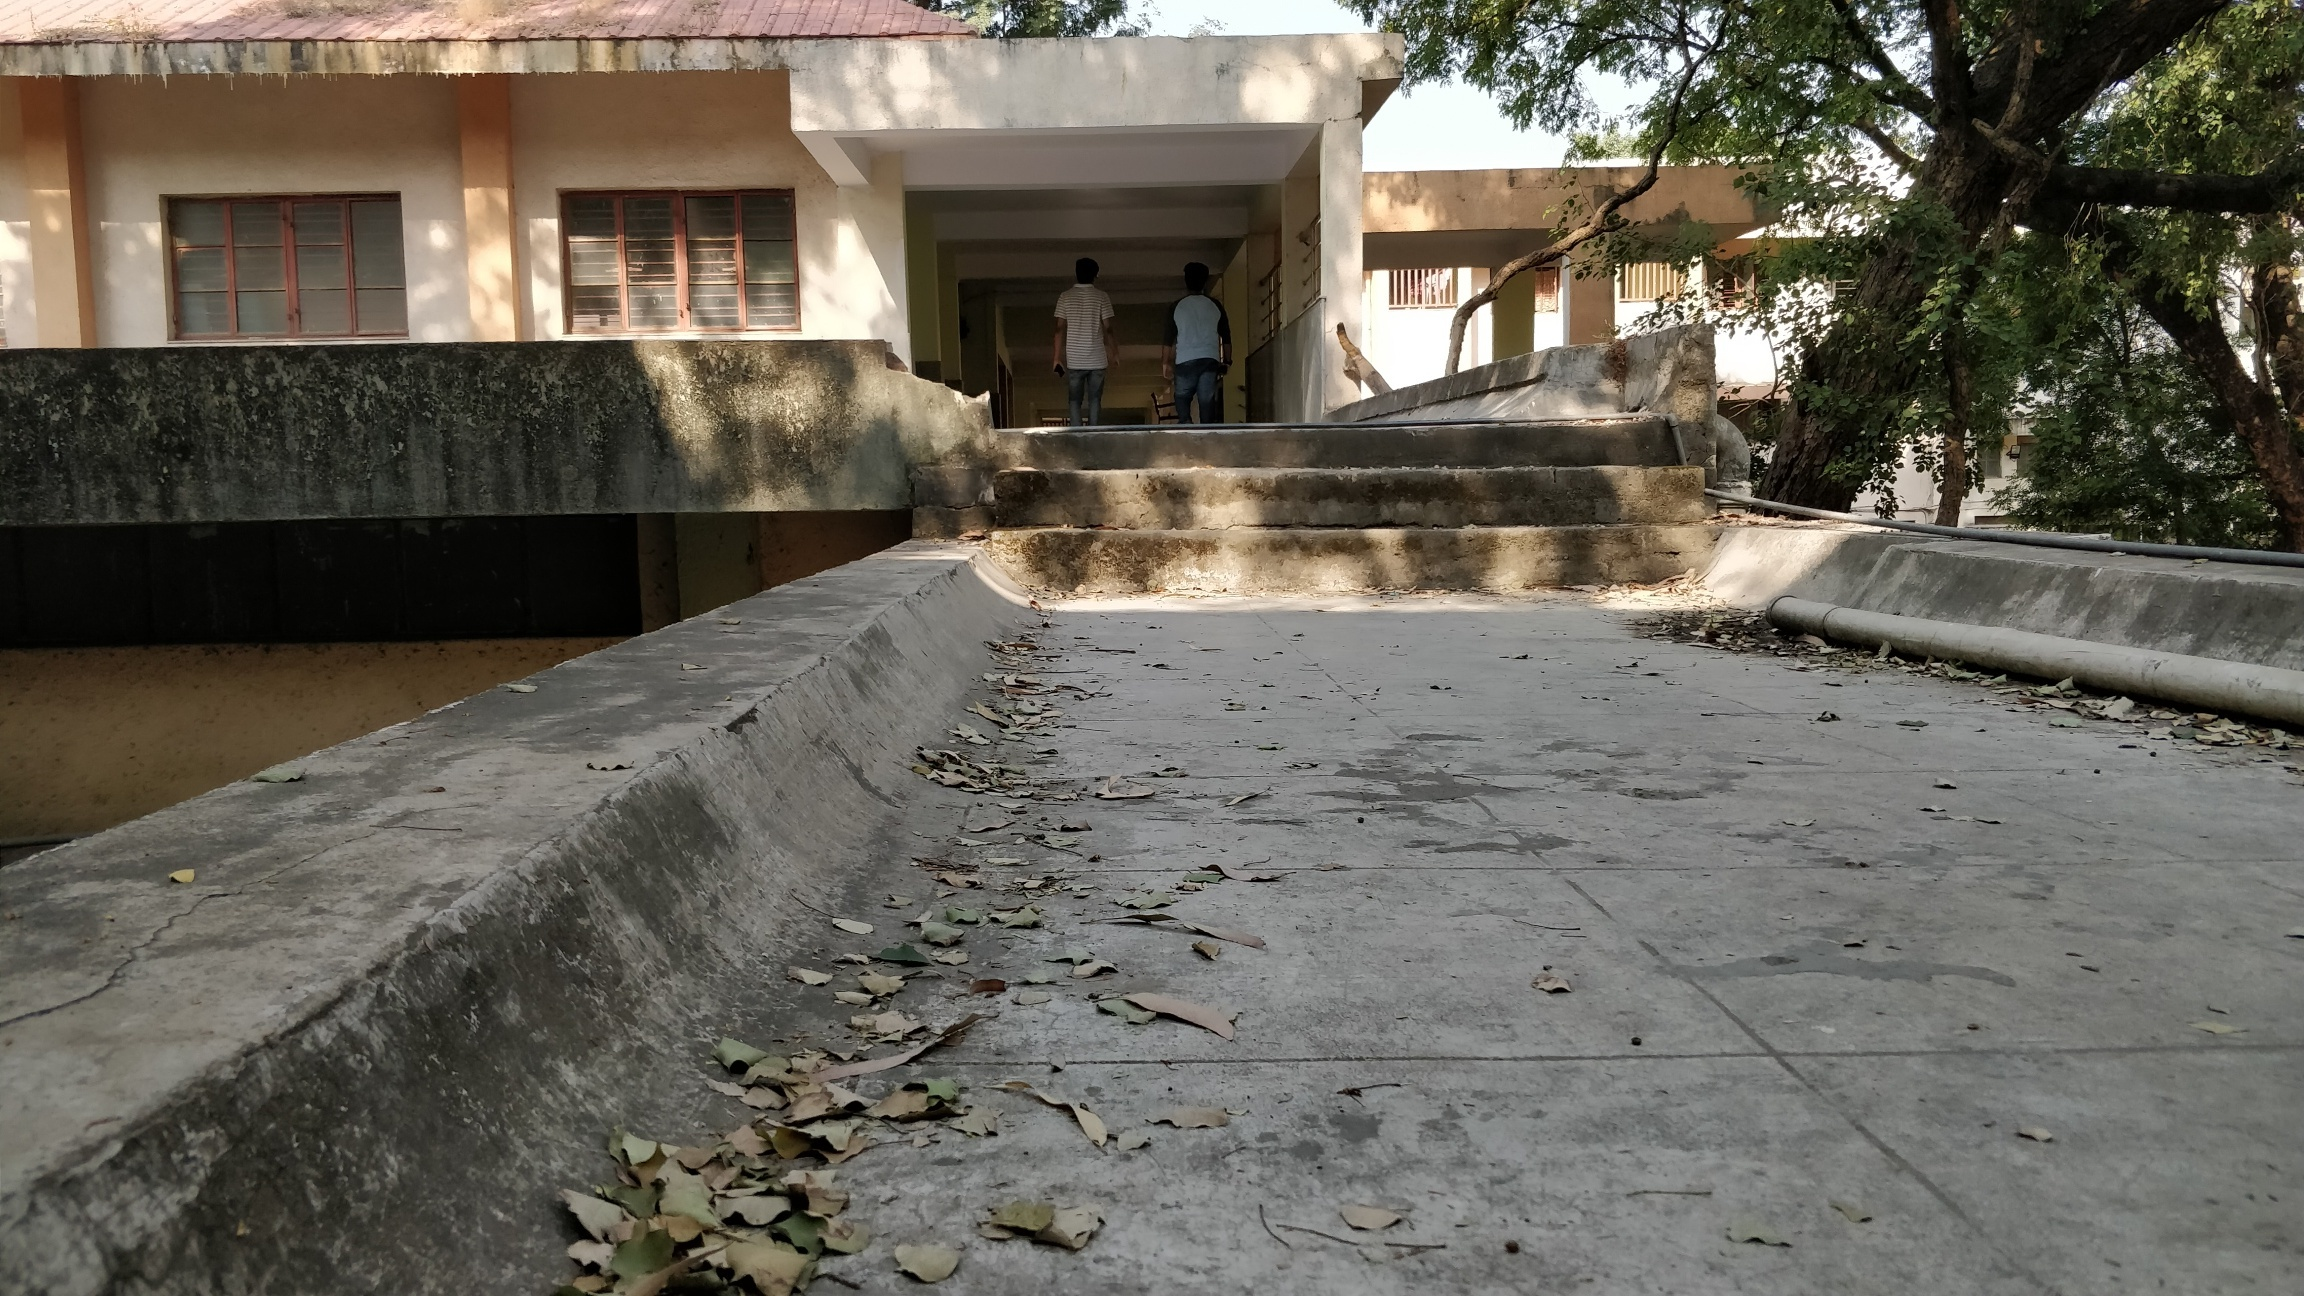stairs_up: (908, 419, 1745, 623)
